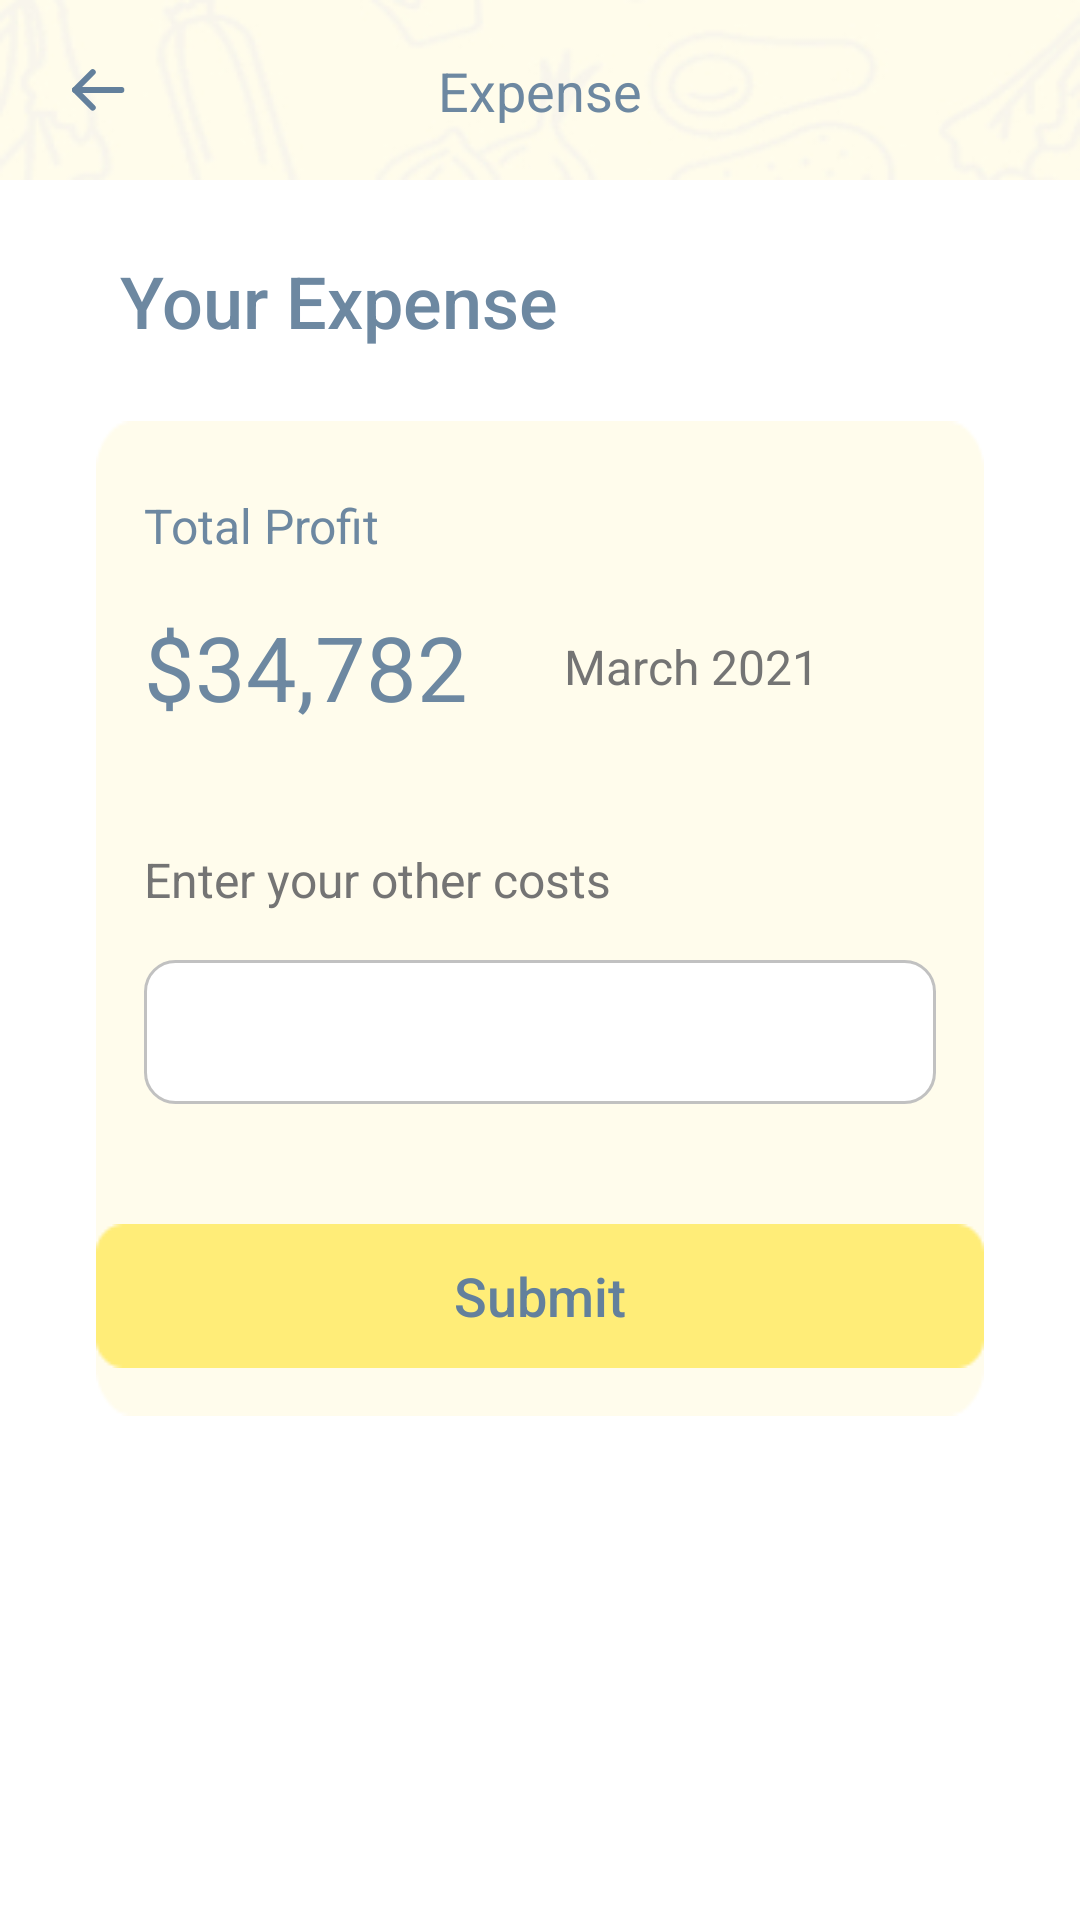

Icons on this 1080*1920 Android screen, each with its box as {"x1": x1, "y1": y1, "x2": x2, "y2": y2}:
back: {"x1": 72, "y1": 69, "x2": 125, "y2": 111}
